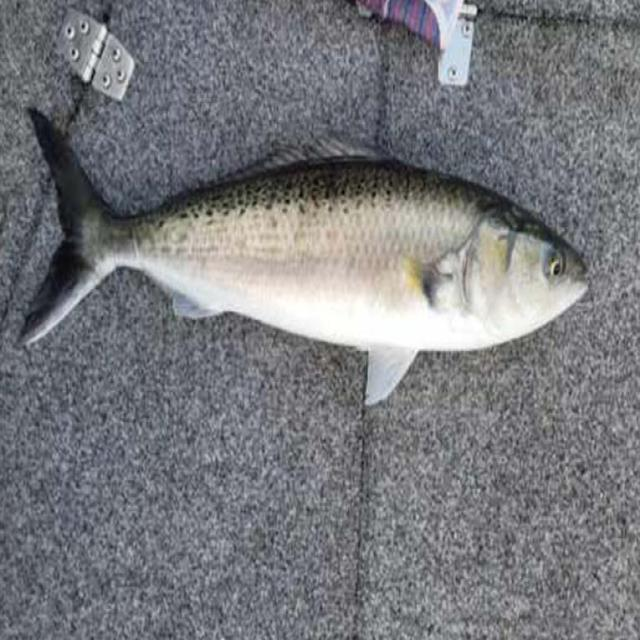Australian Salmon: (16, 91, 595, 418)
